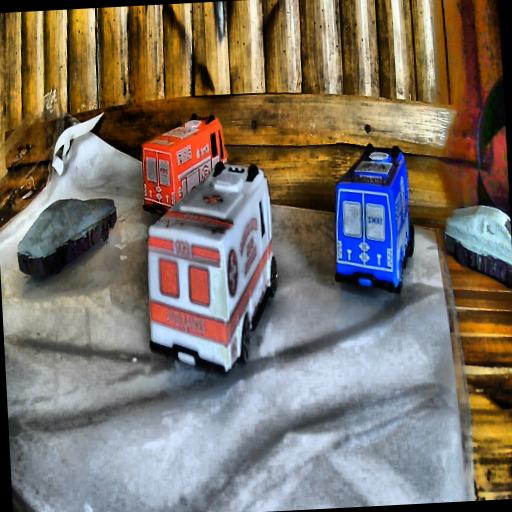ambulance: (142, 155, 280, 380)
fire_truck: (138, 110, 230, 217)
normal_car: (13, 193, 121, 282), (442, 201, 512, 299)
police car: (328, 140, 417, 300)
